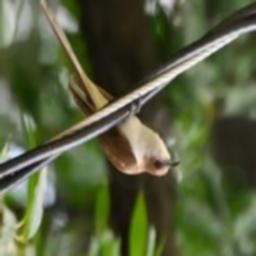Cuckoo: (38, 0, 181, 180)
